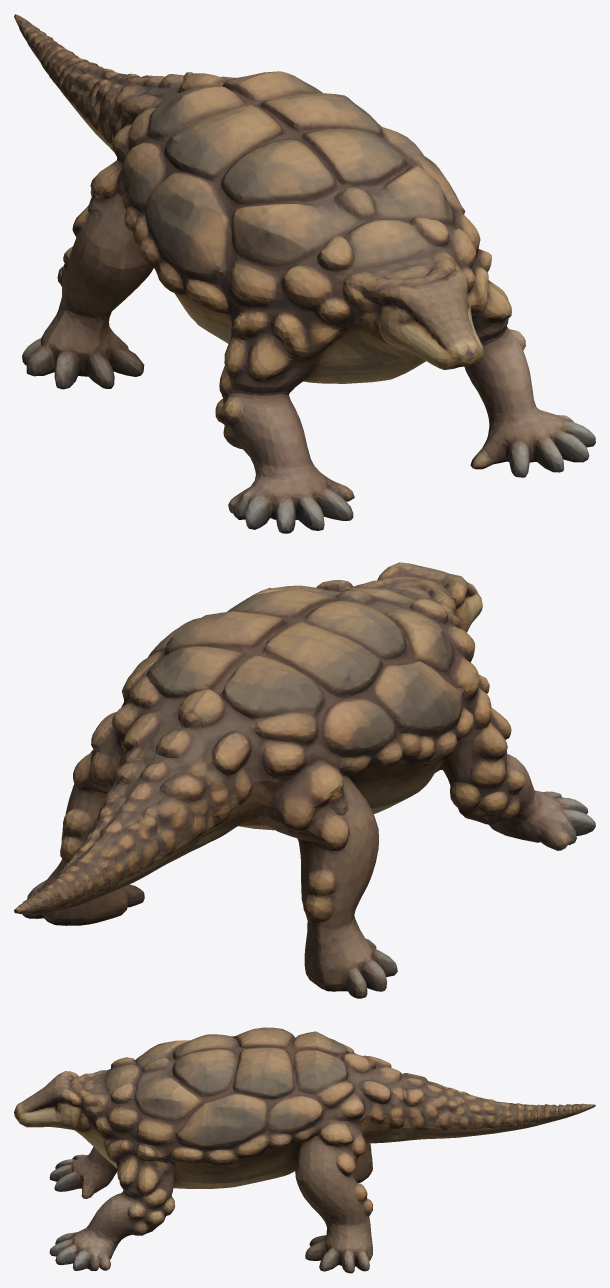
The picture shows the model from 3 angles, top to bottom: view 1: azimuth 30°, elevation 25°; view 2: azimuth 150°, elevation 25°; view 3: azimuth 270°, elevation 25°; orthographic projection. The views are drawn at different scales.
Visible parts, largest first — view 1: world; view 2: world; view 3: world.
Boxes of the visible parts, x1,y1,x2,y2 form: world: (14,14,595,533); world: (14,562,595,998); world: (14,1027,595,1273).
Bounding box in the file's own units: 0.4535 × 0.3339 × 0.996.
Materials: 1 (1 with a texture image).
